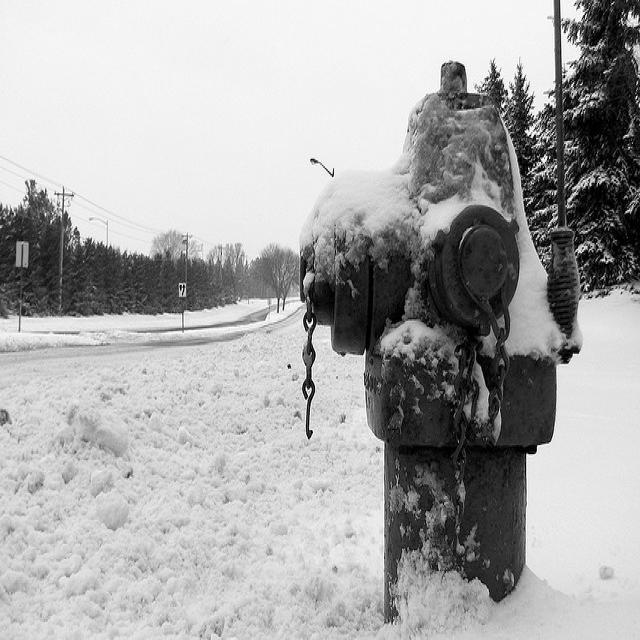fire_hydrant: (299, 59, 586, 620)
